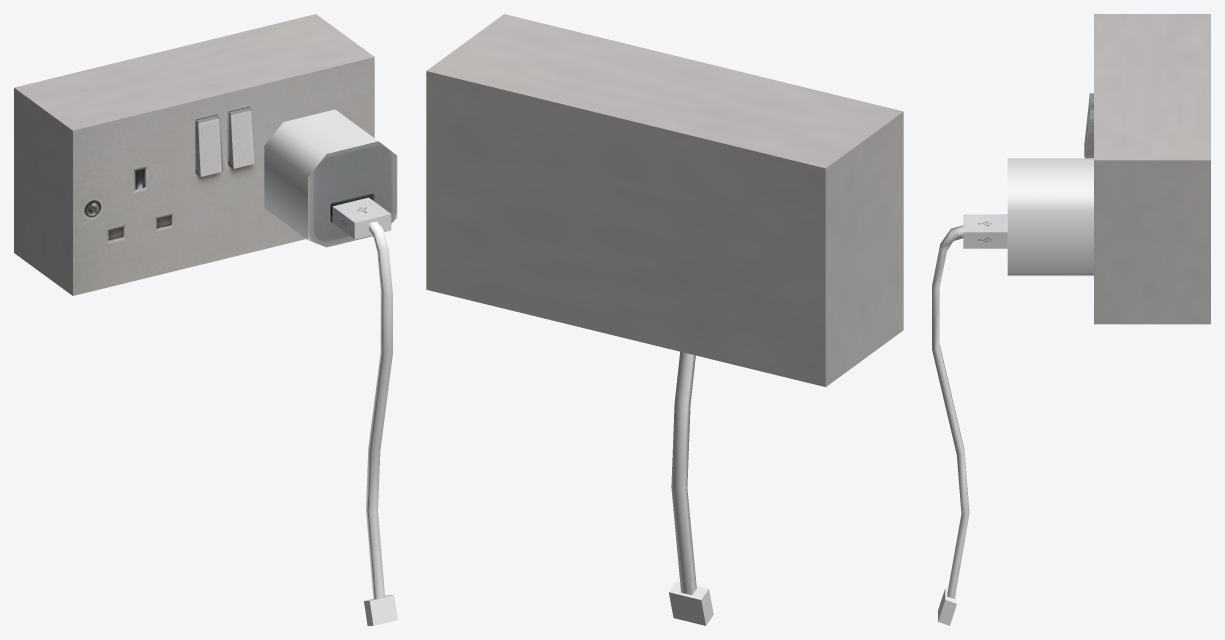
File: obj_charger.fbx
3 renders of one model, left to right at view 1: azimuth 30°, elevation 25°; view 2: azimuth 150°, elevation 25°; view 3: azimuth 270°, elevation 25°, orthographic. The views are drawn at different scales.
Parts seen in each view (by area): view 1: pCube46; view 2: pCube46; view 3: pCube46.
Part boxes in pixels (x1=…): pCube46: x1=14, y1=14, x2=397, y2=625; pCube46: x1=426, y1=14, x2=903, y2=625; pCube46: x1=932, y1=14, x2=1210, y2=625.
Size of the model in its own units: 0.5437 by 0.8538 by 0.438.
Materials: 1 (1 with a texture image).
